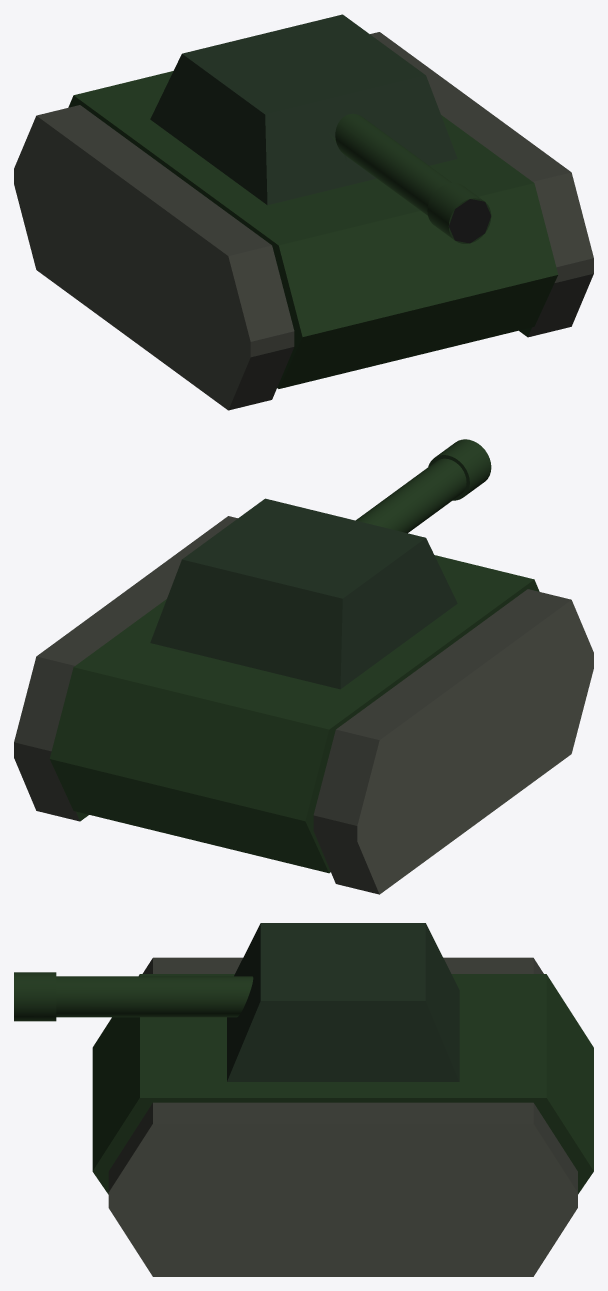
Rendered from tanque.fbx.
The picture shows the model from 3 angles, top to bottom: view 1: azimuth 30°, elevation 25°; view 2: azimuth 150°, elevation 25°; view 3: azimuth 270°, elevation 25°; orthographic projection.
Visible parts, largest first — view 1: tank_1; view 2: tank_1; view 3: tank_1.
Boxes of the visible parts, x1=… form: tank_1: x1=14, y1=14, x2=593, y2=410; tank_1: x1=14, y1=439, x2=593, y2=894; tank_1: x1=14, y1=923, x2=593, y2=1276.
Bounding box in the file's own units: 2369 × 1542 × 3496.
